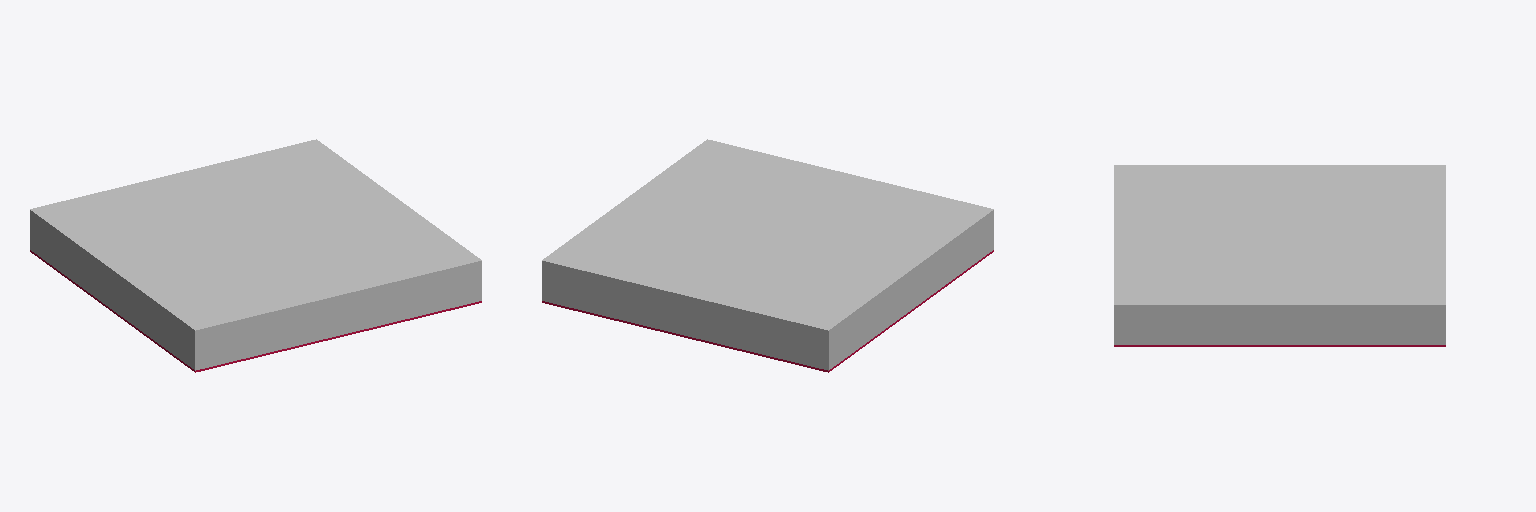
Rendered from map_2.obj.
3 views of the same model, side by side, from view 1: azimuth 30°, elevation 25°; view 2: azimuth 150°, elevation 25°; view 3: azimuth 270°, elevation 25° (orthographic).
Visible parts, largest first — view 1: Cube.015_Cube.028, Cube.001_Cube.005, Cube.002_Cube.007, cube1_Cube.003; view 2: Cube.015_Cube.028, Cube.003_Cube.023, Cube.002_Cube.007, cube1_Cube.003; view 3: Cube.015_Cube.028, Cube, cube1_Cube.003.
Part boxes in pixels (x1,y1,x2,y2): Cube.015_Cube.028: (30,139,481,333); Cube.001_Cube.005: (186,268,467,370); Cube.002_Cube.007: (30,214,185,363); cube1_Cube.003: (30,250,481,372); Cube.015_Cube.028: (542,139,993,333); Cube.003_Cube.023: (556,268,811,366); Cube.002_Cube.007: (812,220,984,370); cube1_Cube.003: (542,250,993,372); Cube.015_Cube.028: (1114,165,1445,308); Cube: (1114,309,1445,344); cube1_Cube.003: (1114,345,1445,346).
Size of the model in its own units: 600 by 84.24 by 600.